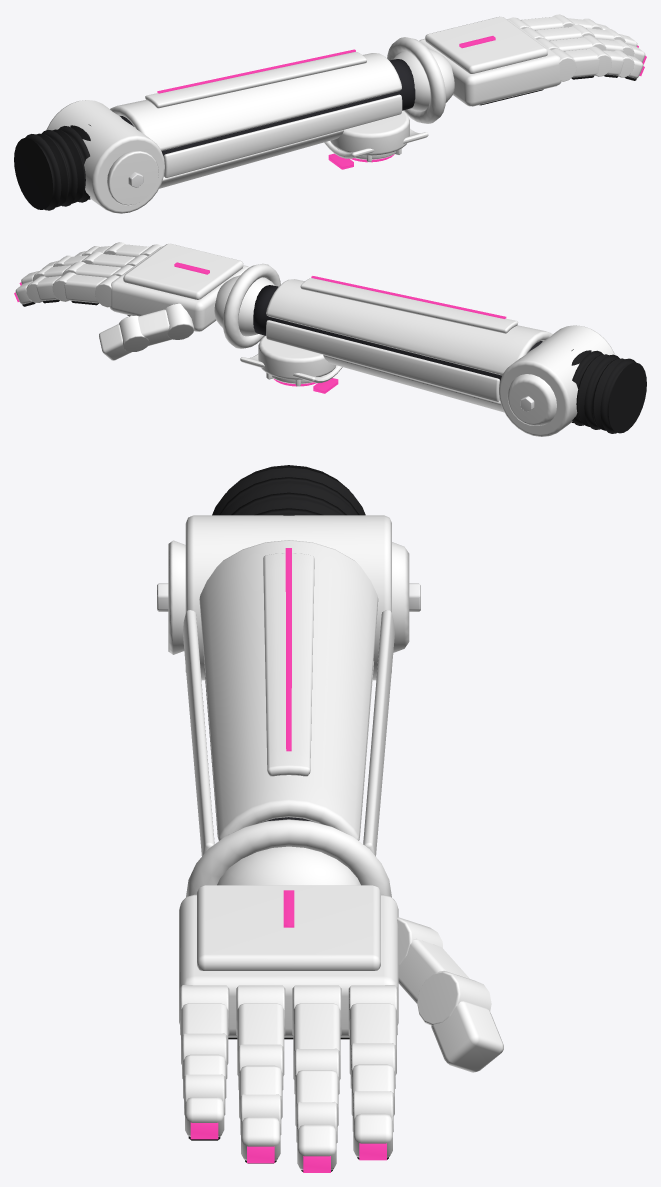
The model's file is arm_nanowire.glb.
3 renders of one model, top to bottom at view 1: azimuth 30°, elevation 25°; view 2: azimuth 150°, elevation 25°; view 3: azimuth 270°, elevation 25°, orthographic. The views are drawn at different scales.
Parts seen in each view (by area): view 1: dorsal, side_strip.001, bellows, elbow_hinge, palm_back, palm, dorsal_inlay, spool_housing, elbow_cap, wrist_ring, core, ventral (+10 smaller); view 2: dorsal, side_strip, elbow_hinge, bellows, palm_back, dorsal_inlay, palm, spool_housing, elbow_cap.001, wrist_ring, core, ventral (+14 smaller); view 3: dorsal, palm_back, elbow_hinge, dorsal_inlay, palm, wrist_ring, bellows, wrist_ball, side_strip, side_strip.001, phalanx.013, knuckle.013 (+28 smaller).
Boxes of the visible parts, left/top/right/bottom form: dorsal: left=110, top=53, right=401, bottom=150; side_strip.001: left=163, top=94, right=402, bottom=177; bellows: left=14, top=124, right=90, bottom=210; elbow_hinge: left=46, top=100, right=164, bottom=213; palm_back: left=425, top=16, right=547, bottom=73; palm: left=419, top=19, right=561, bottom=106; dorsal_inlay: left=145, top=51, right=366, bottom=108; spool_housing: left=330, top=110, right=409, bottom=155; elbow_cap: left=107, top=151, right=158, bottom=205; wrist_ring: left=387, top=37, right=445, bottom=123; core: left=120, top=59, right=415, bottom=156; ventral: left=159, top=130, right=343, bottom=188; dorsal: left=266, top=279, right=552, bottom=375; side_strip: left=266, top=320, right=499, bottom=401; elbow_hinge: left=499, top=325, right=614, bottom=436; bellows: left=571, top=349, right=646, bottom=433; palm_back: left=123, top=243, right=243, bottom=299; dorsal_inlay: left=300, top=278, right=517, bottom=333; palm: left=110, top=246, right=249, bottom=331; spool_housing: left=258, top=335, right=336, bottom=379; elbow_cap.001: left=507, top=374, right=556, bottom=425; wrist_ring: left=223, top=263, right=280, bottom=348; core: left=253, top=285, right=542, bottom=380; ventral: left=323, top=355, right=504, bottom=412; dorsal: left=199, top=540, right=378, bottom=840; palm_back: left=197, top=885, right=380, bottom=970; elbow_hinge: left=185, top=515, right=391, bottom=680; dorsal_inlay: left=263, top=553, right=314, bottom=776; palm: left=179, top=894, right=398, bottom=1037; wrist_ring: left=186, top=819, right=391, bottom=897; bellows: left=212, top=465, right=365, bottom=515; wrist_ball: left=217, top=846, right=360, bottom=885; side_strip: left=363, top=610, right=394, bottom=856; side_strip.001: left=183, top=610, right=214, bottom=855; phalanx.013: left=431, top=1001, right=503, bottom=1072; knuckle.013: left=417, top=971, right=491, bottom=1025.
Size of the model in its own units: 0.5188 by 0.0946 by 0.1304.
